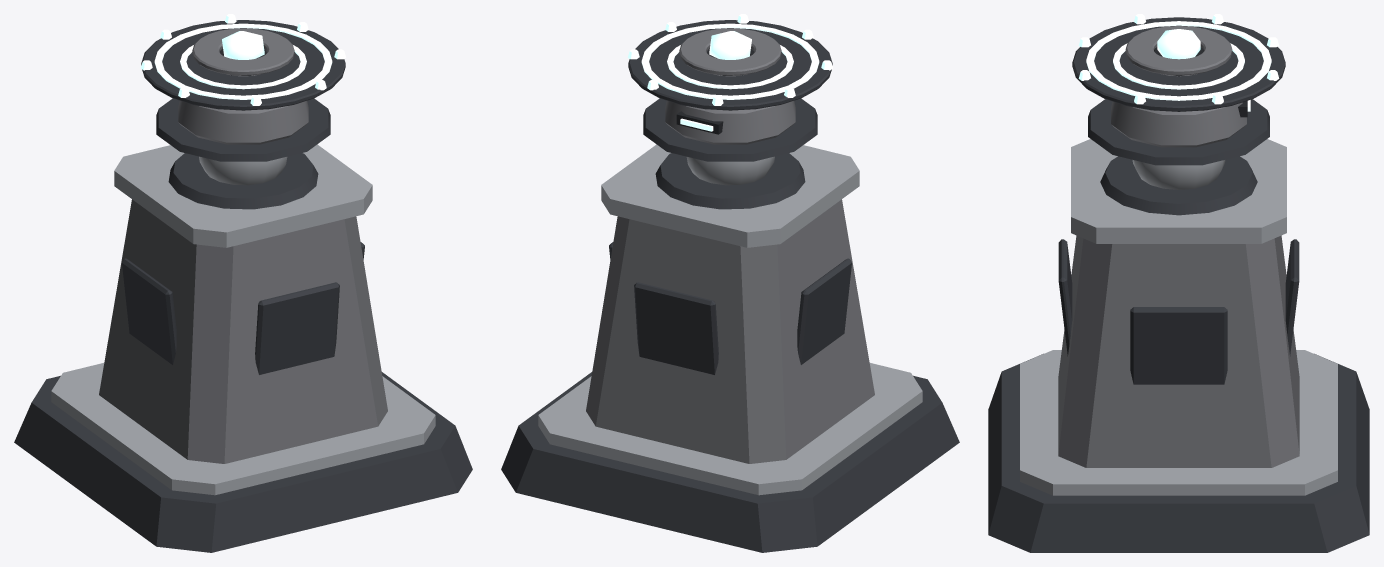
File: Tower_EMP.fbx
3 views of the same model, side by side, from view 1: azimuth 30°, elevation 25°; view 2: azimuth 150°, elevation 25°; view 3: azimuth 270°, elevation 25° (orthographic). The views are drawn at different scales.
Visible parts, largest first — view 1: ET_Core, ET_Base, ET_Base_Plate, ET_Collar, ET_Disc_Lower, ET_Core_Plate_1, ET_Rotation_Plate, ET_Head_Plate, ET_Head_Housing, ET_Core_Plate_3, ET_Disc_Upper, ET_Disc_Coil_Outer (+3 smaller); view 2: ET_Core, ET_Base, ET_Base_Plate, ET_Collar, ET_Disc_Lower, ET_Core_Plate_0, ET_Rotation_Plate, ET_Head_Plate, ET_Core_Plate_3, ET_Head_Housing, ET_Disc_Upper, ET_Disc_Coil_Outer (+3 smaller); view 3: ET_Core, ET_Base, ET_Base_Plate, ET_Collar, ET_Disc_Lower, ET_Core_Plate_2, ET_Rotation_Plate, ET_Head_Plate, ET_Head_Housing, ET_Disc_Upper, ET_Disc_Coil_Outer, ET_Neck_Joint (+4 smaller).
Part boxes in pixels (x1,y1,x2,y2): ET_Core: (99, 199, 387, 463); ET_Base: (14, 372, 472, 552); ET_Base_Plate: (51, 363, 435, 495); ET_Collar: (114, 144, 372, 247); ET_Disc_Lower: (141, 20, 345, 110); ET_Core_Plate_1: (255, 282, 339, 374); ET_Rotation_Plate: (168, 153, 318, 209); ET_Head_Plate: (156, 98, 330, 161); ET_Head_Housing: (178, 74, 308, 144); ET_Core_Plate_3: (122, 258, 176, 364); ET_Disc_Upper: (192, 28, 294, 75); ET_Disc_Coil_Outer: (154, 23, 332, 99); ET_Core: (586, 199, 874, 463); ET_Base: (501, 372, 959, 552); ET_Base_Plate: (538, 363, 922, 495); ET_Collar: (601, 144, 859, 247); ET_Disc_Lower: (628, 20, 832, 110); ET_Core_Plate_0: (634, 282, 718, 374); ET_Rotation_Plate: (655, 153, 805, 209); ET_Head_Plate: (643, 98, 817, 161); ET_Core_Plate_3: (797, 258, 851, 364); ET_Head_Housing: (665, 74, 795, 144); ET_Disc_Upper: (679, 28, 781, 75); ET_Disc_Coil_Outer: (641, 23, 819, 99); ET_Core: (1058, 235, 1299, 467); ET_Base: (988, 353, 1369, 552); ET_Base_Plate: (1020, 350, 1337, 495); ET_Collar: (1071, 139, 1286, 243); ET_Disc_Lower: (1072, 17, 1285, 111); ET_Core_Plate_2: (1130, 307, 1227, 384); ET_Rotation_Plate: (1100, 156, 1257, 215); ET_Head_Plate: (1088, 99, 1269, 165); ET_Head_Housing: (1111, 74, 1246, 147); ET_Disc_Upper: (1125, 26, 1232, 75); ET_Disc_Coil_Outer: (1086, 21, 1271, 100); ET_Neck_Joint: (1132, 160, 1225, 189).
Size of the model in its own units: 3 by 3.85 by 3.
